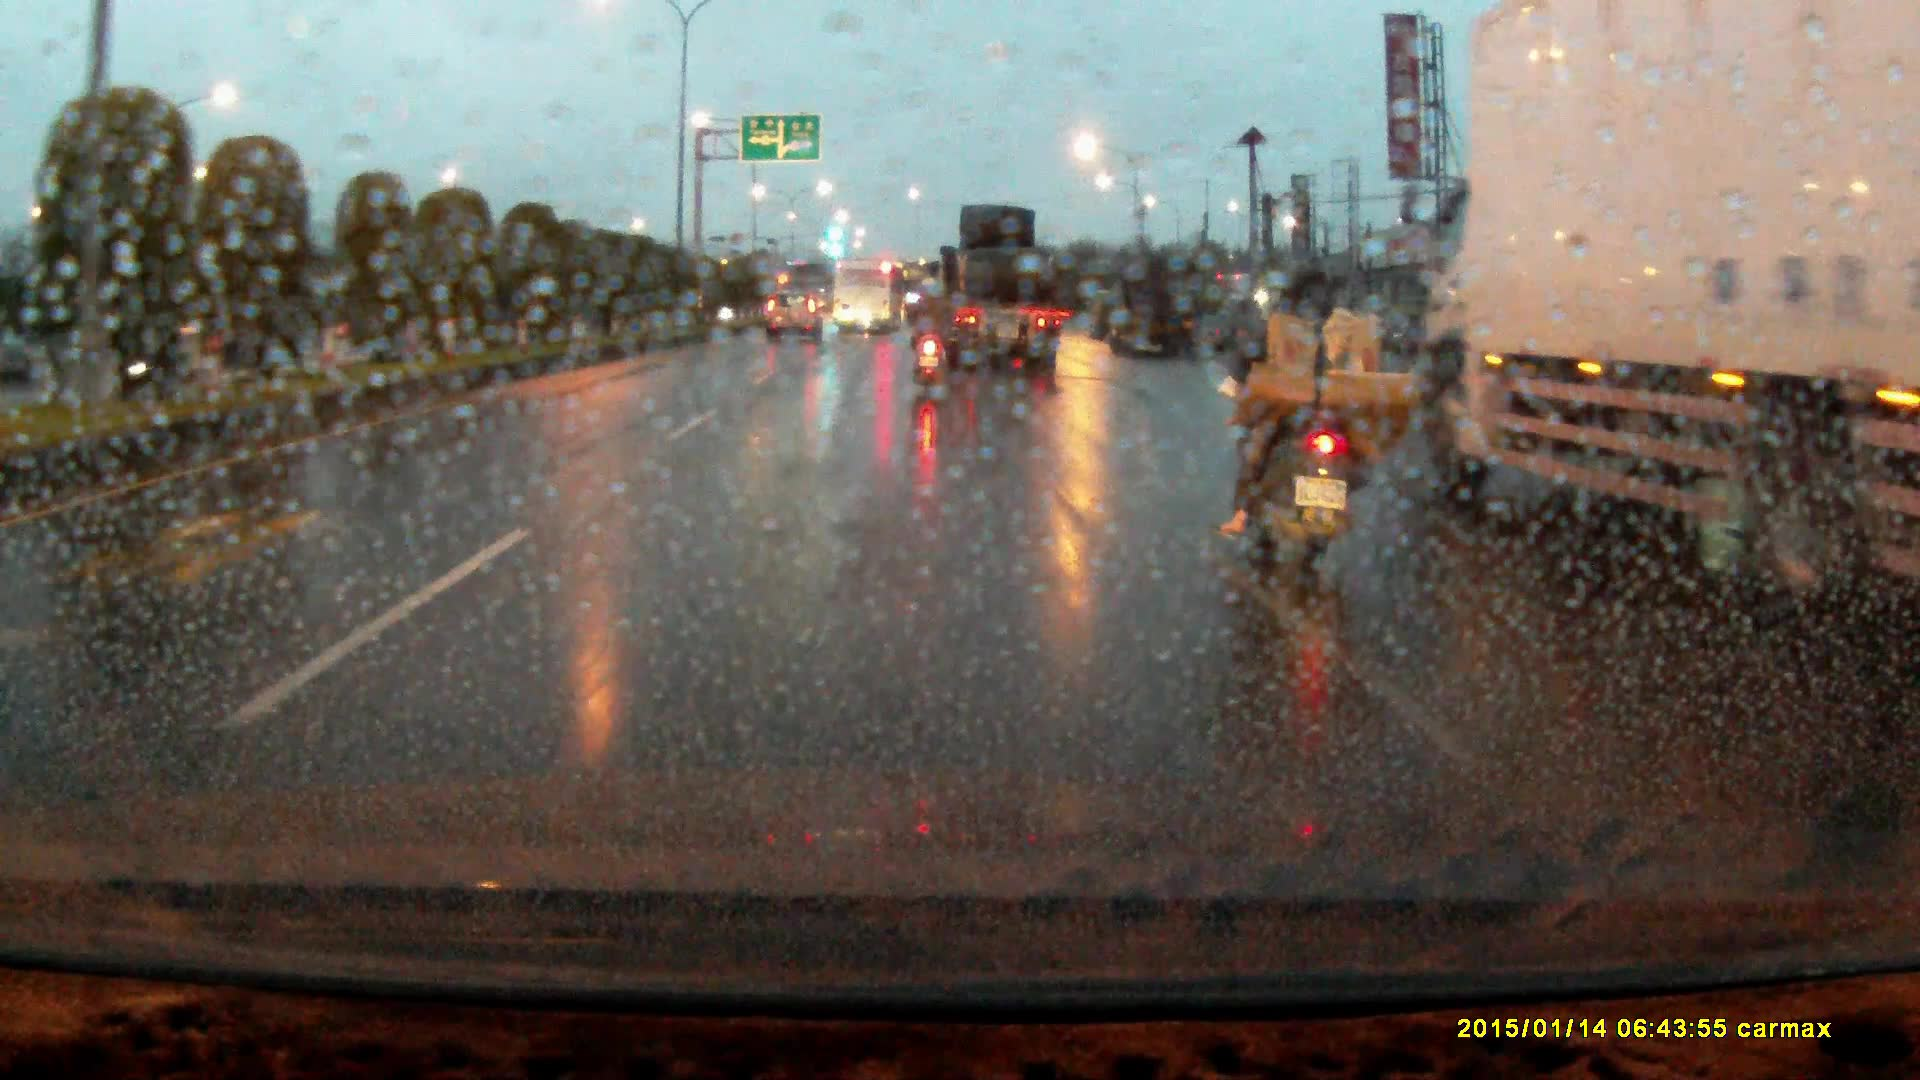rider: (1215, 253, 1425, 588), (910, 282, 954, 396)
vehicle: (1414, 1, 1920, 580), (917, 204, 1060, 373), (1115, 260, 1199, 358), (836, 261, 905, 335), (767, 291, 824, 341), (1089, 289, 1125, 338)
